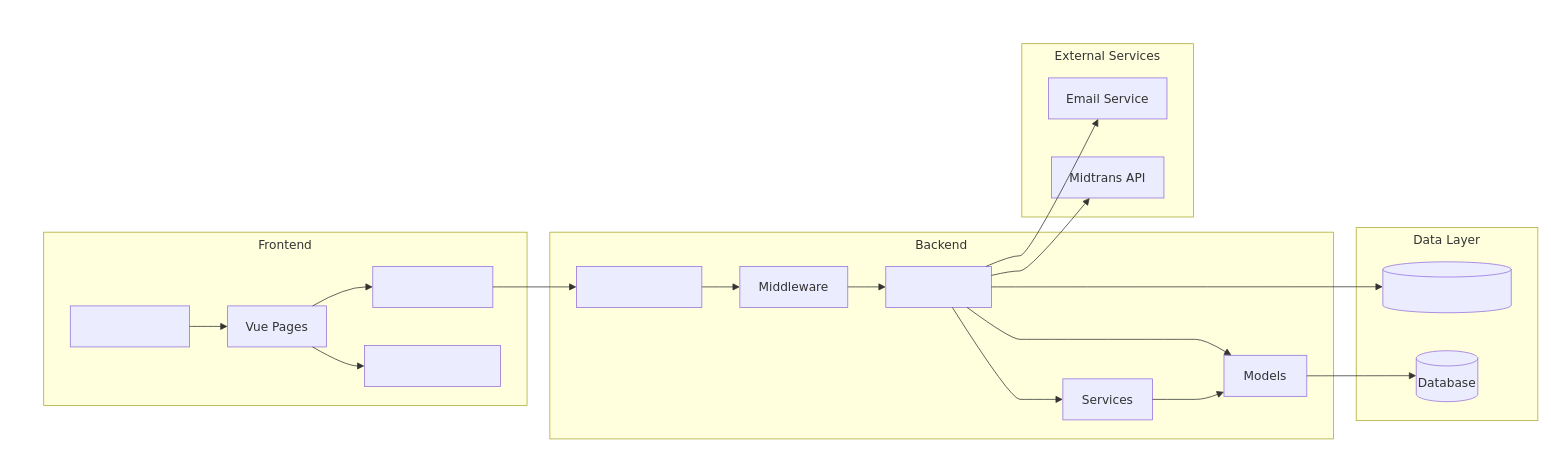
The diagram is 1551 pixels wide and 452 high, and some of its shapes have lost their labels. Here are the shapes that lost their labels. From the top down, the centre of each, then its label:
the point at 432,286: Inertia Bridge
the point at 639,286: Laravel Routes
the point at 938,286: Controllers
the point at 1446,287: Storage/Public Assets
the point at 130,326: Browser/User
the point at 432,365: Vue Components
